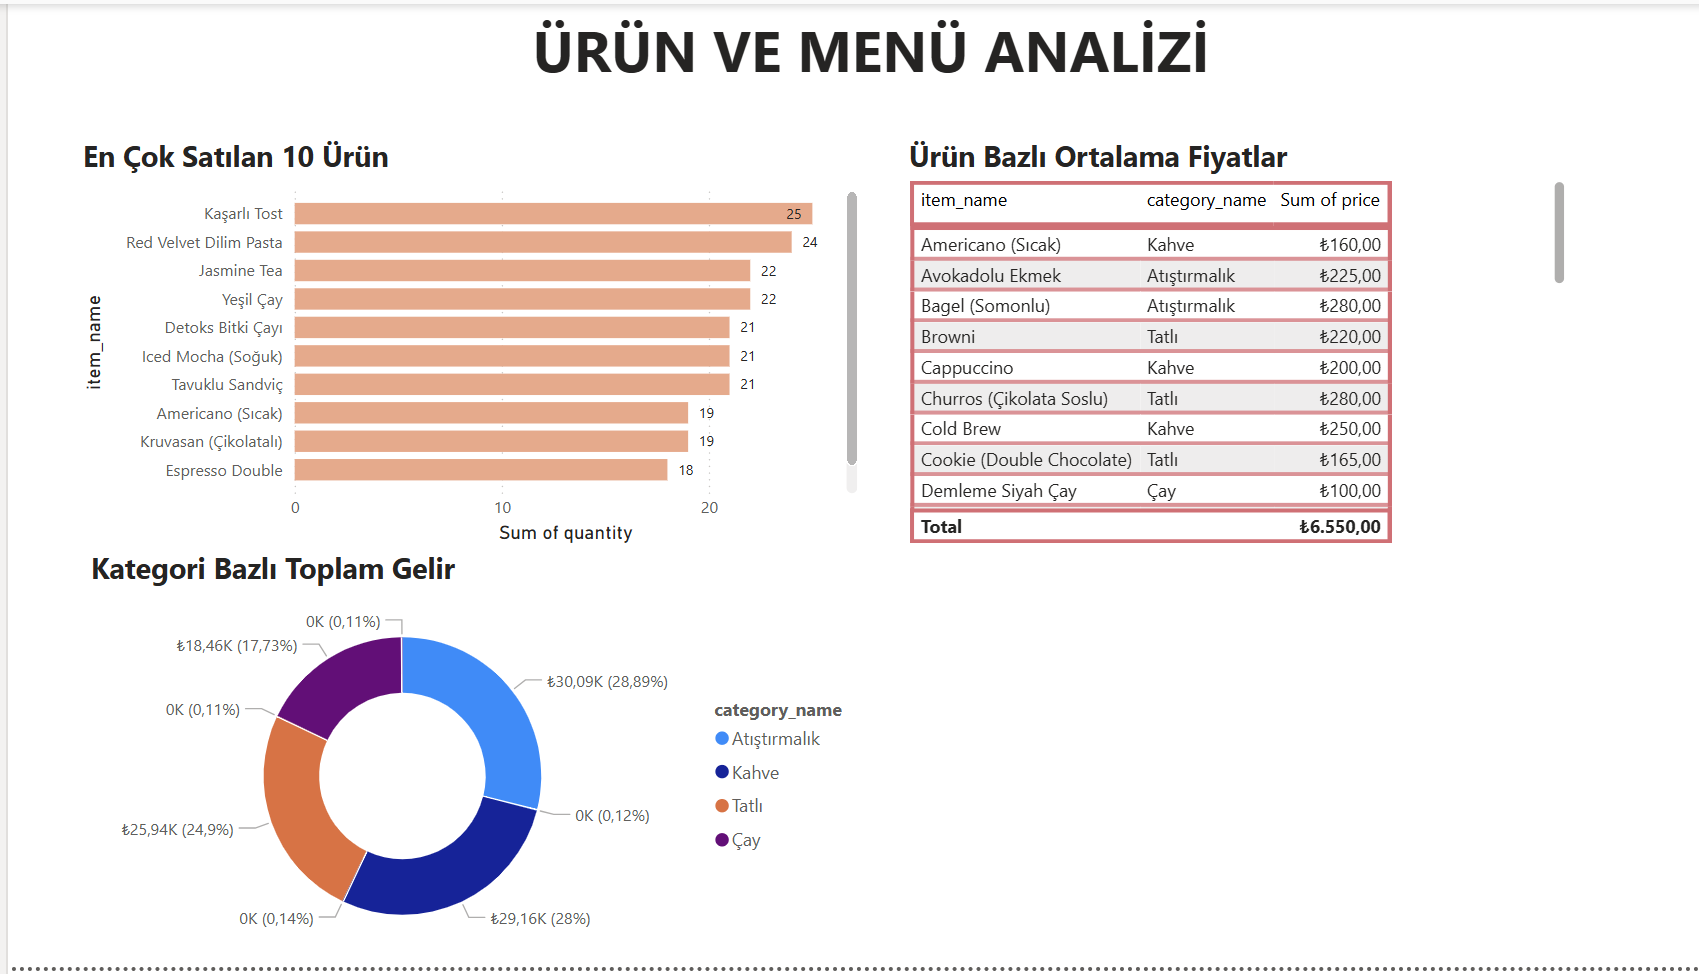

Layout of this report page (visuals, bound fields, positions):
{"tool":"powerbi","page":{"name":"Page 2","canvas":[1280,720],"ordinal":1},"visuals":[{"type":"textbox","box":[10.5,0,1269.5,98.8],"z":0},{"type":"clusteredBarChart","title":"En Çok Satılan 10 Ürün","fields":{"Category":["public menu_items.item_name"],"Y":["Sum(public order_items.quantity)"]},"box":[50.8,98.7,589.2,309.5],"z":1000},{"type":"donutChart","title":"Kategori Bazlı Toplam Gelir","fields":{"Category":["public category.category_name"],"Y":["Sum(public order_items.total_price)","Sum(public order_items.quantity)"]},"box":[56.8,406.7,589.2,312.5],"z":2000},{"type":"tableEx","title":"Ürün Bazlı Ortalama Fiyatlar","fields":{"Values":["public menu_items.item_name","public category.category_name","Sum(public menu_items.price)"]},"box":[668.4,98.7,500.9,309.5],"z":3000}]}

Visuals, with their boxes in screenshot pixels (x1, y1, x2, y2), scaled from the page's 1280x720 canvas onto the 1699x974 screenshot:
textbox: 14, 0, 1698, 134
"En Çok Satılan 10 Ürün" clusteredBarChart: 67, 134, 850, 552
"Kategori Bazlı Toplam Gelir" donutChart: 75, 550, 857, 973
"Ürün Bazlı Ortalama Fiyatlar" tableEx: 887, 134, 1552, 552
